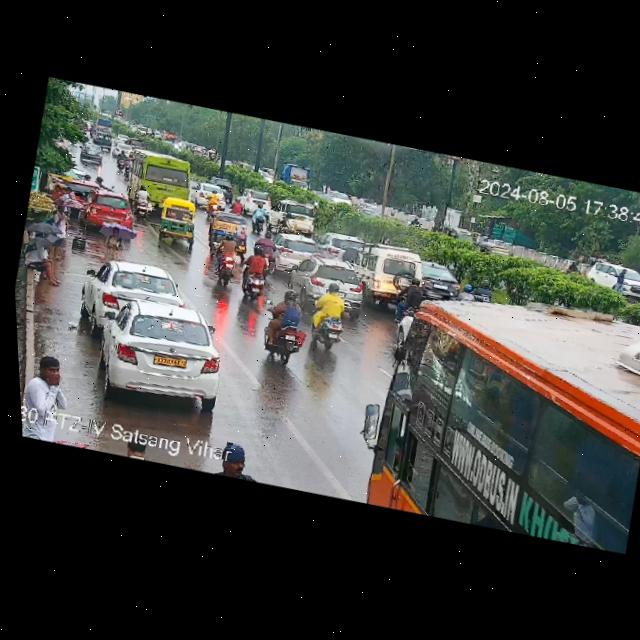bus: (342, 299, 640, 556), (116, 144, 208, 219)
car: (77, 292, 239, 415), (81, 252, 188, 327), (282, 254, 373, 311), (349, 242, 419, 305), (514, 295, 617, 328), (148, 195, 203, 249), (583, 256, 640, 305), (410, 253, 463, 301), (265, 194, 324, 237), (271, 226, 325, 272), (79, 189, 136, 230), (190, 179, 231, 212), (318, 231, 357, 262), (79, 141, 111, 168), (239, 188, 272, 209), (205, 173, 236, 190), (92, 132, 117, 151), (112, 141, 128, 154)
motorcycle: (256, 287, 314, 364), (301, 280, 352, 351), (207, 232, 247, 289), (236, 243, 272, 301), (456, 274, 497, 306), (397, 275, 428, 314), (256, 228, 282, 272), (131, 189, 162, 221), (248, 204, 269, 230), (113, 150, 127, 172), (229, 195, 243, 213)
person: (21, 353, 77, 416), (20, 236, 69, 286), (48, 184, 82, 229), (219, 443, 256, 481), (103, 222, 129, 262)
